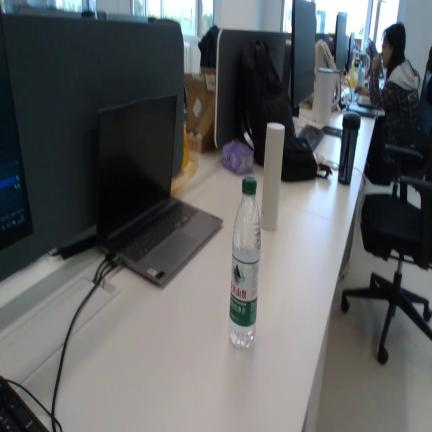bottle: (229, 176, 261, 349)
